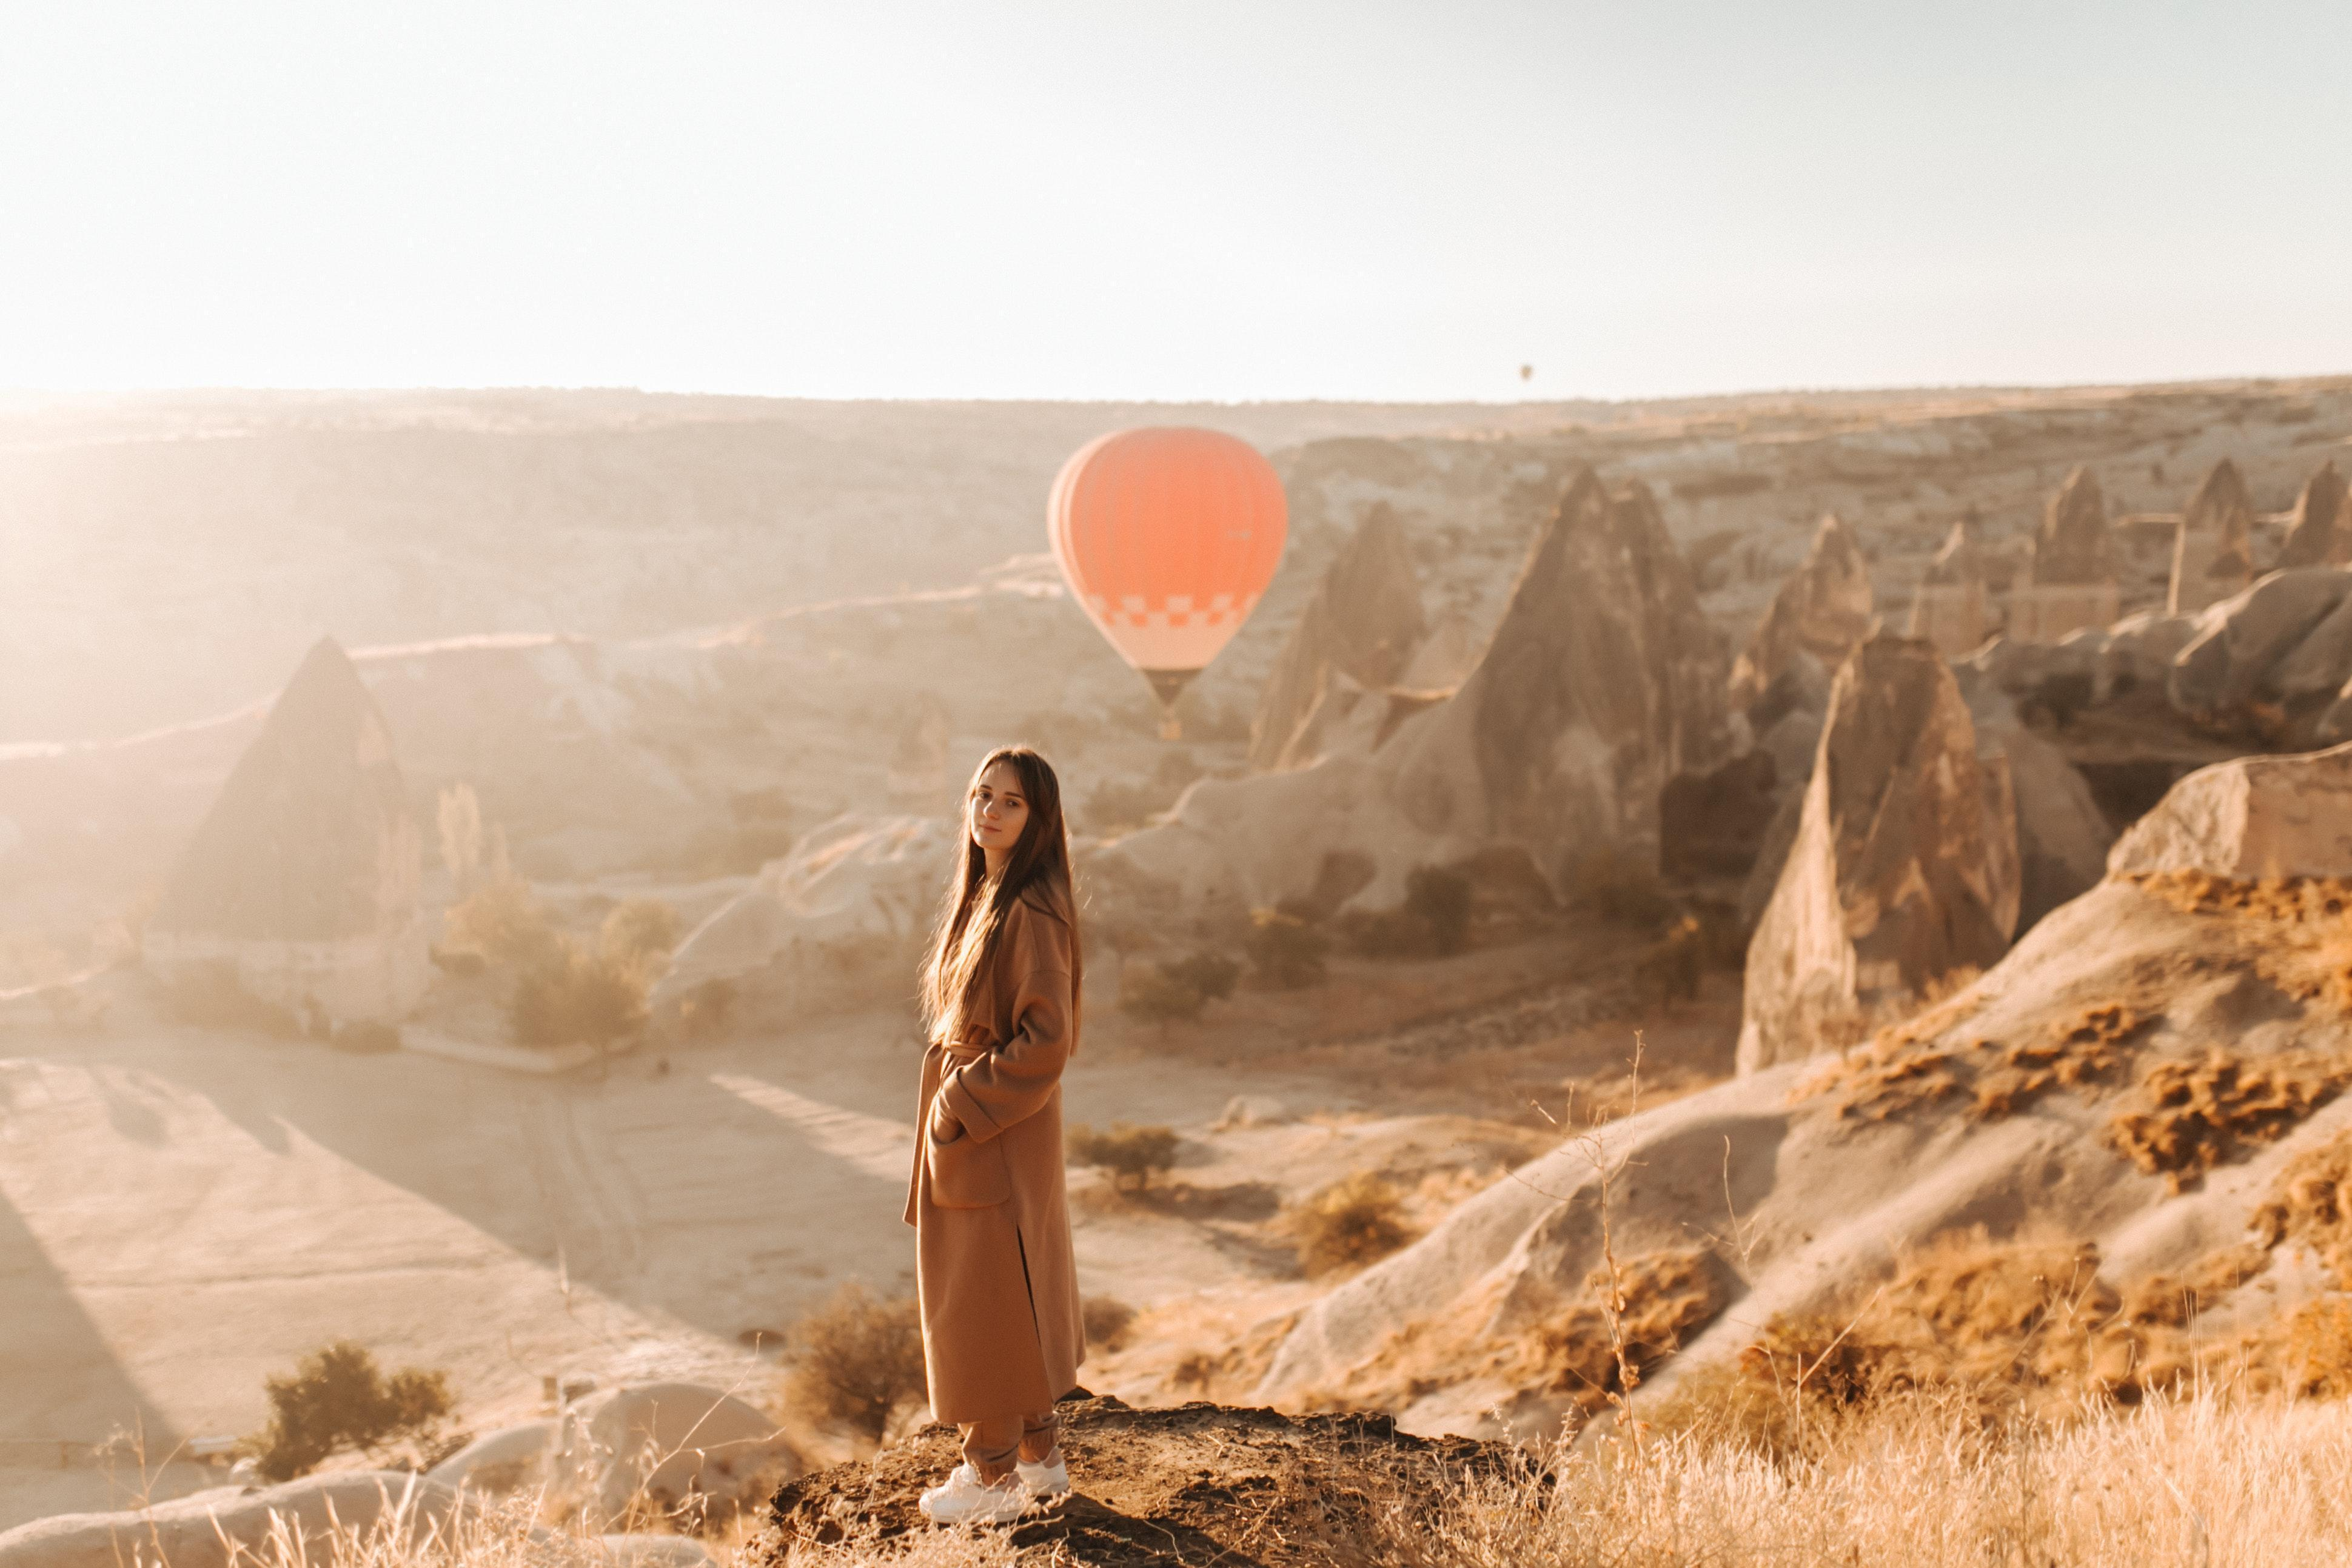hot air ballon: (1043, 427, 1290, 740)
